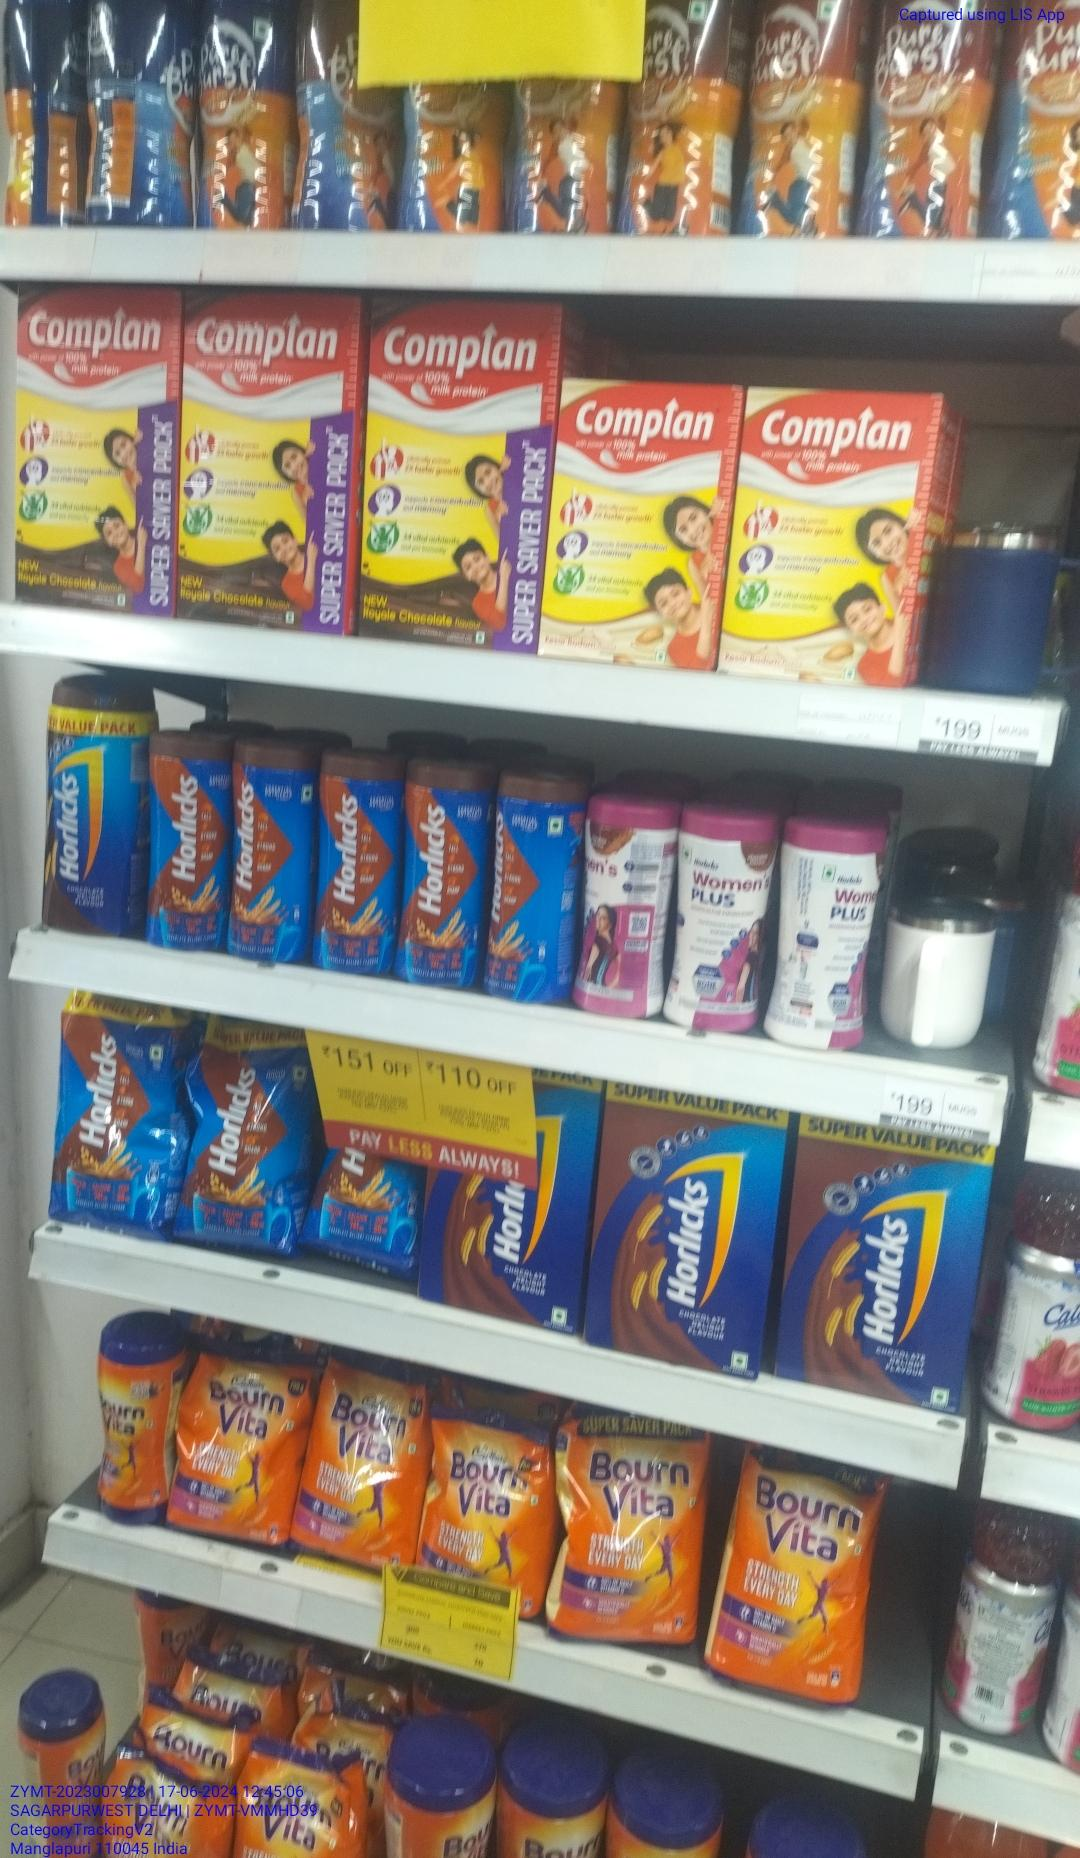BOURN_VITA_1_KG_POUCH: (717, 1462, 879, 1695), (558, 1405, 697, 1646)
BOURN_VITA_500_G_JAR: (99, 1328, 167, 1522)
BOURN_VITA_750_G_POUCH: (303, 1353, 418, 1561), (175, 1340, 289, 1537), (427, 1408, 541, 1582)
COMPLAN_CHOCOLATE_1_KG_PACK: (364, 293, 532, 647), (180, 288, 352, 618), (12, 289, 175, 617)
COMPLAN_KESAR_BADAM_500_GMS_PACK: (734, 384, 905, 685), (543, 377, 712, 656)
HORLICK_CHOCOLATE_500_G_JAR: (485, 764, 568, 1000), (315, 747, 392, 977), (144, 733, 226, 946), (399, 753, 473, 980), (230, 742, 306, 962)
HORLICK_CHOCOLATE_750_G_POUCH: (57, 990, 172, 1229), (184, 1017, 294, 1252)
